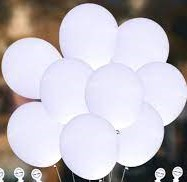Balloon: (6, 101, 65, 168), (58, 3, 118, 68), (61, 114, 118, 178), (133, 63, 187, 126)
